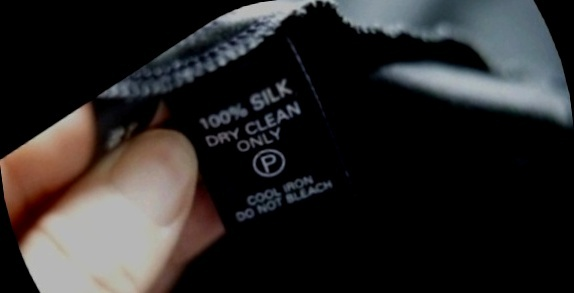dry_clean_any_solvent_except_trichloroethylene: (239, 131, 301, 192)
